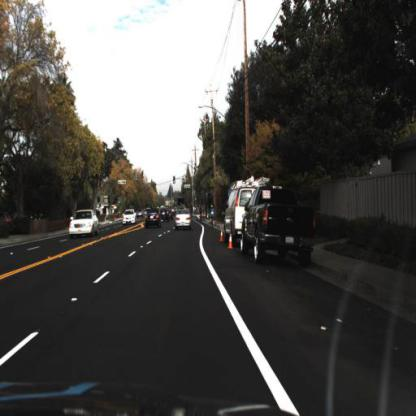biker: (204, 205, 212, 235), (210, 204, 219, 229)
car: (239, 180, 321, 266), (223, 175, 263, 245), (224, 179, 257, 242), (65, 209, 101, 240), (67, 205, 100, 237), (142, 208, 163, 235), (143, 209, 166, 230), (174, 211, 195, 234), (121, 207, 138, 228), (174, 208, 191, 229), (120, 208, 138, 226)
